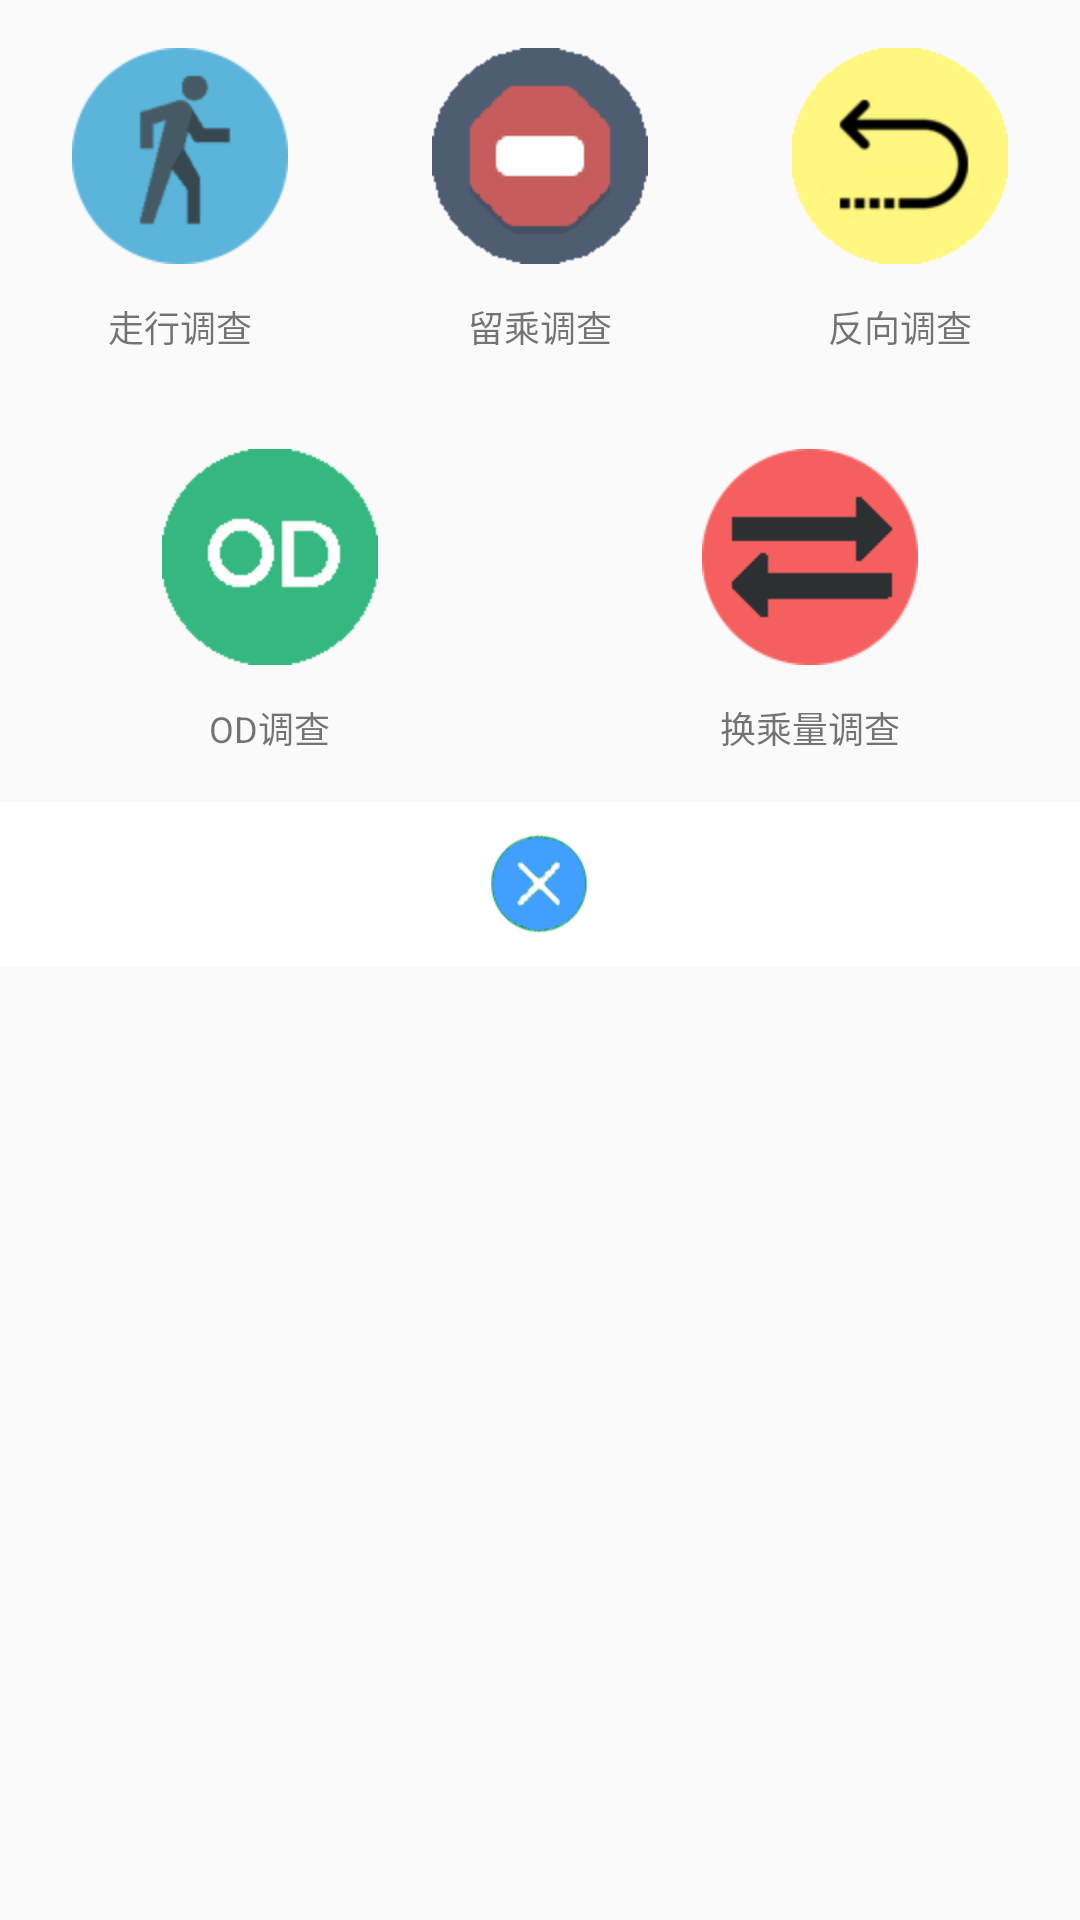

Where to tap for icons on this 1080×1920 app screen, as (x,y):
stop survey: (540,156)
